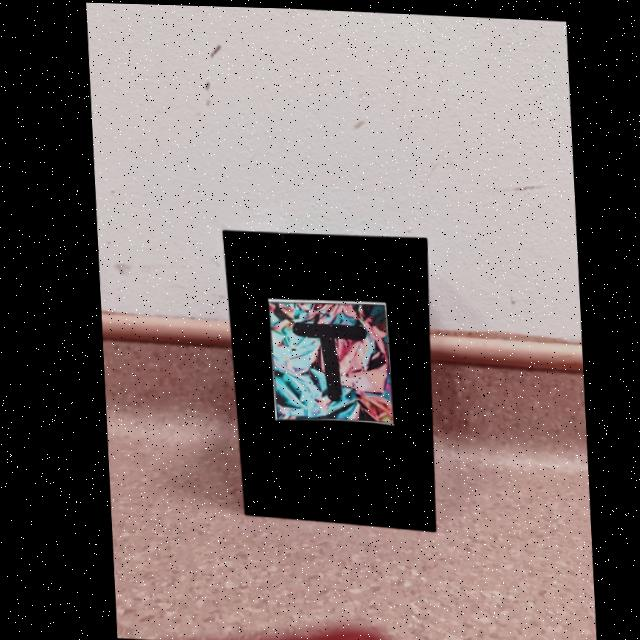T: (288, 320, 361, 399)
